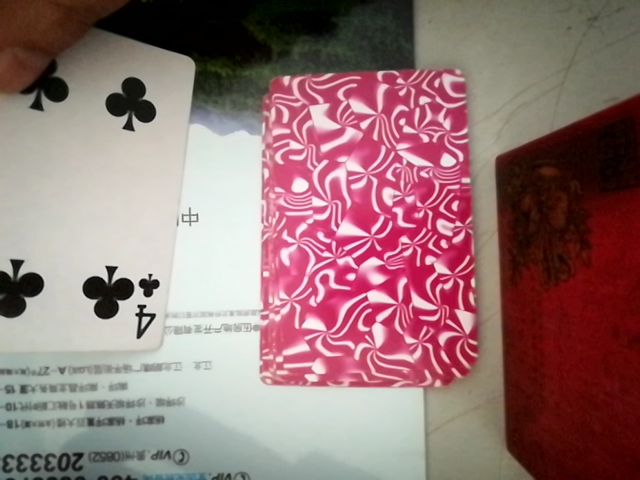mh 4: (0, 32, 204, 361)
